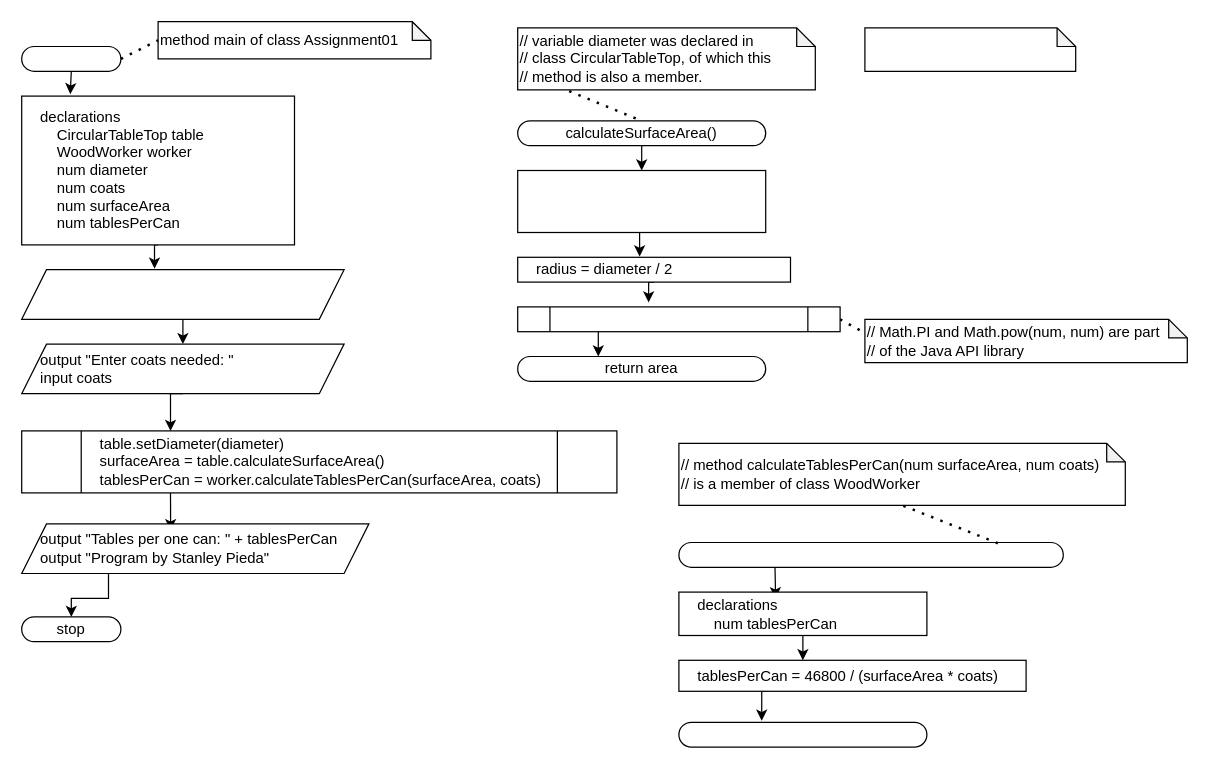
This 1209x769 diagram has some shape labels left out. Here are the shapes that lost their labels. From the top down, the box of each, then its label:
(20, 45, 121, 71): start
(864, 27, 1076, 71): Flowchart by Stanley Pieda
(516, 169, 766, 232): declarations num area num radius
(20, 268, 344, 319): output "Enter diameter (inches): " input diameter
(516, 306, 840, 332): area = Math.PI * Math.pow(radius, 2)
(678, 541, 1063, 567): calculateTablesPerCan(num surfaceArea, num coats)
(678, 721, 927, 747): return tablesPerCan
